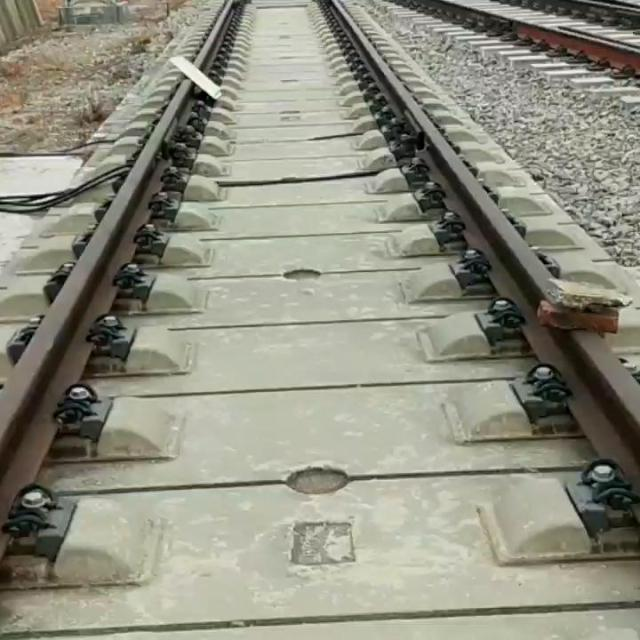rail: (332, 1, 640, 493), (1, 80, 194, 526), (393, 1, 640, 76), (509, 1, 640, 29), (193, 1, 239, 71)
